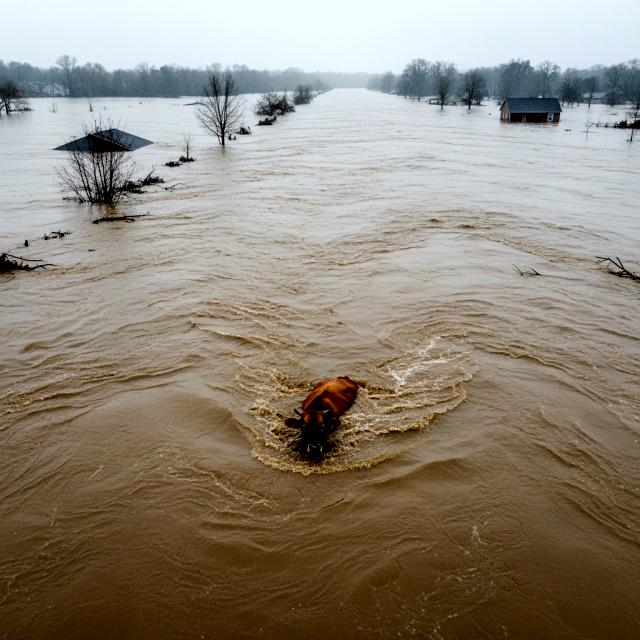cow: (281, 359, 374, 468)
